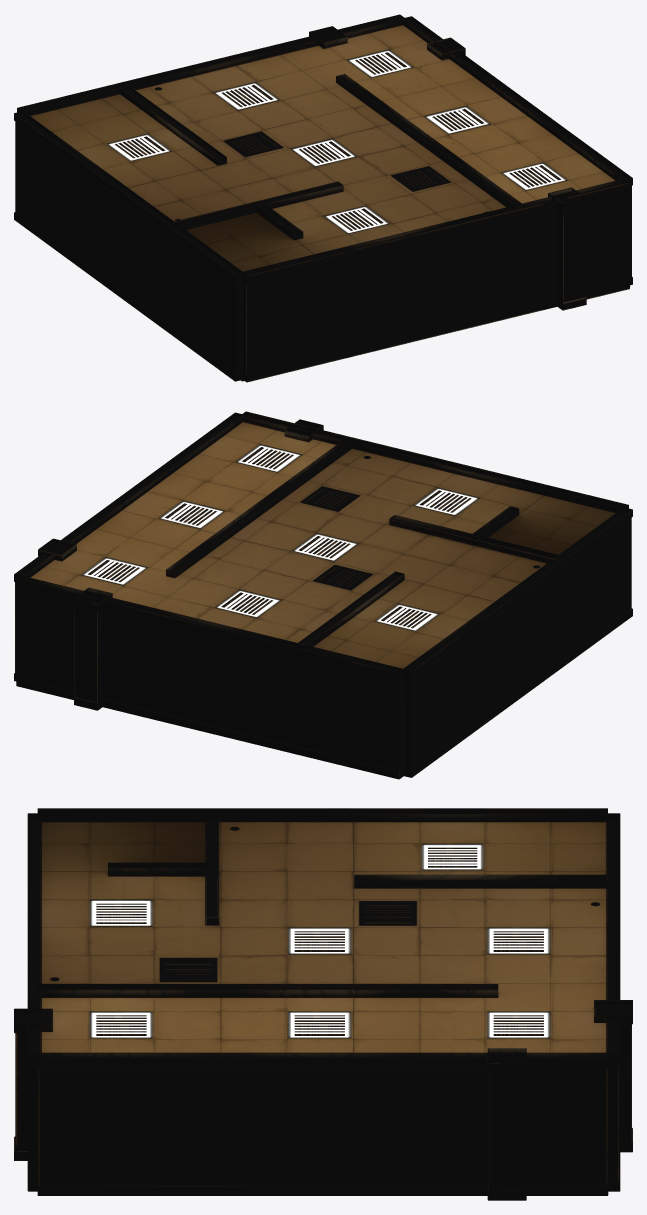
Rendered from a_liminal_space.glb.
The picture shows the model from 3 angles, top to bottom: view 1: azimuth 30°, elevation 25°; view 2: azimuth 150°, elevation 25°; view 3: azimuth 270°, elevation 25°; orthographic projection. The views are drawn at different scales.
Visible parts, largest first — view 1: walls_3, Ceiling.001_1, lights_7; view 2: walls_3, Ceiling.001_1, lights_7; view 3: walls_3, Ceiling.001_1, lights_7, vents_2.
Boxes of the visible parts, box(x1,y1,x2,y2) form: walls_3: box(14, 14, 632, 382); Ceiling.001_1: box(30, 25, 615, 281); lights_7: box(107, 49, 567, 233); walls_3: box(14, 411, 632, 779); Ceiling.001_1: box(30, 422, 615, 676); lights_7: box(81, 444, 479, 631); walls_3: box(14, 808, 632, 1200); Ceiling.001_1: box(33, 822, 608, 1062); lights_7: box(89, 843, 549, 1038); vents_2: box(160, 901, 416, 982).
Size of the model in its own units: 10.44 by 2.63 by 10.7.
Materials: 11 (10 with a texture image).
